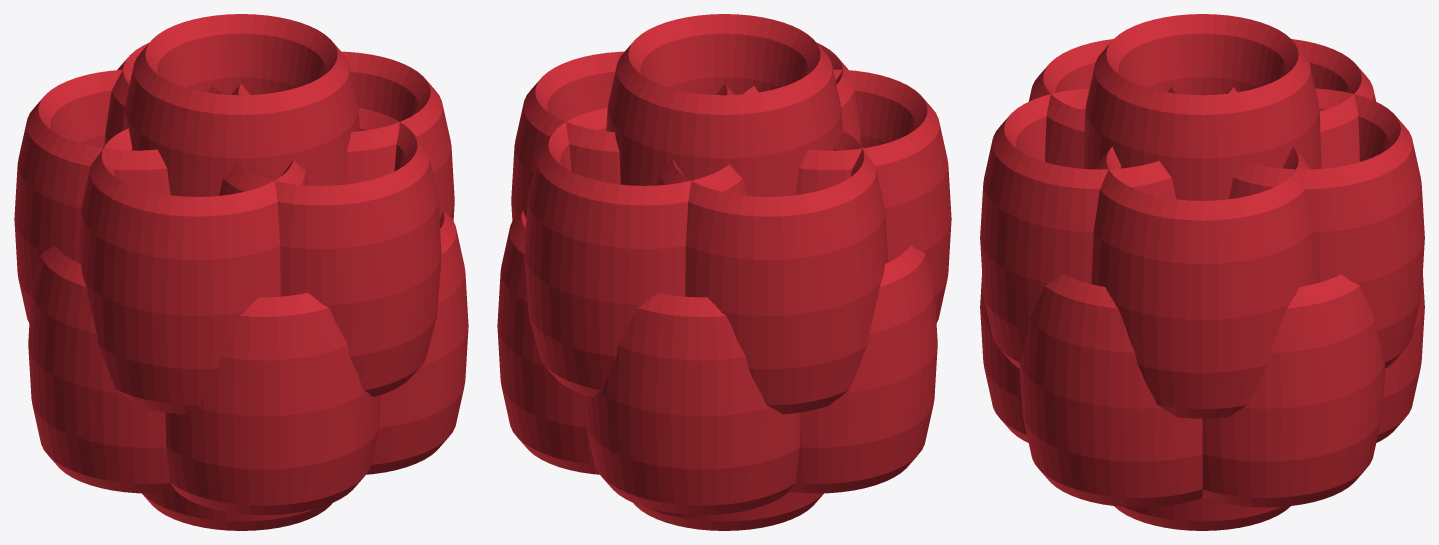
Rendered from wideTorusNodes.fbx.
3 views of the same model, side by side, from view 1: azimuth 30°, elevation 25°; view 2: azimuth 150°, elevation 25°; view 3: azimuth 270°, elevation 25° (orthographic).
Parts seen in each view (by area): view 1: Torus; view 2: Torus; view 3: Torus.
Boxes of the visible parts, <box> form: Torus: <box>14,14,468,530</box>; Torus: <box>497,14,951,530</box>; Torus: <box>980,14,1424,530</box>.
Size of the model in its own units: 379 by 400 by 370.
